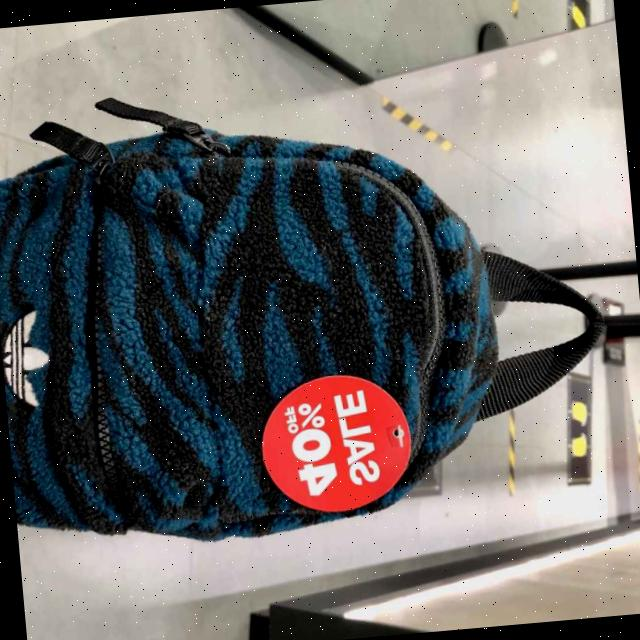handbag: (0, 129, 477, 537)
